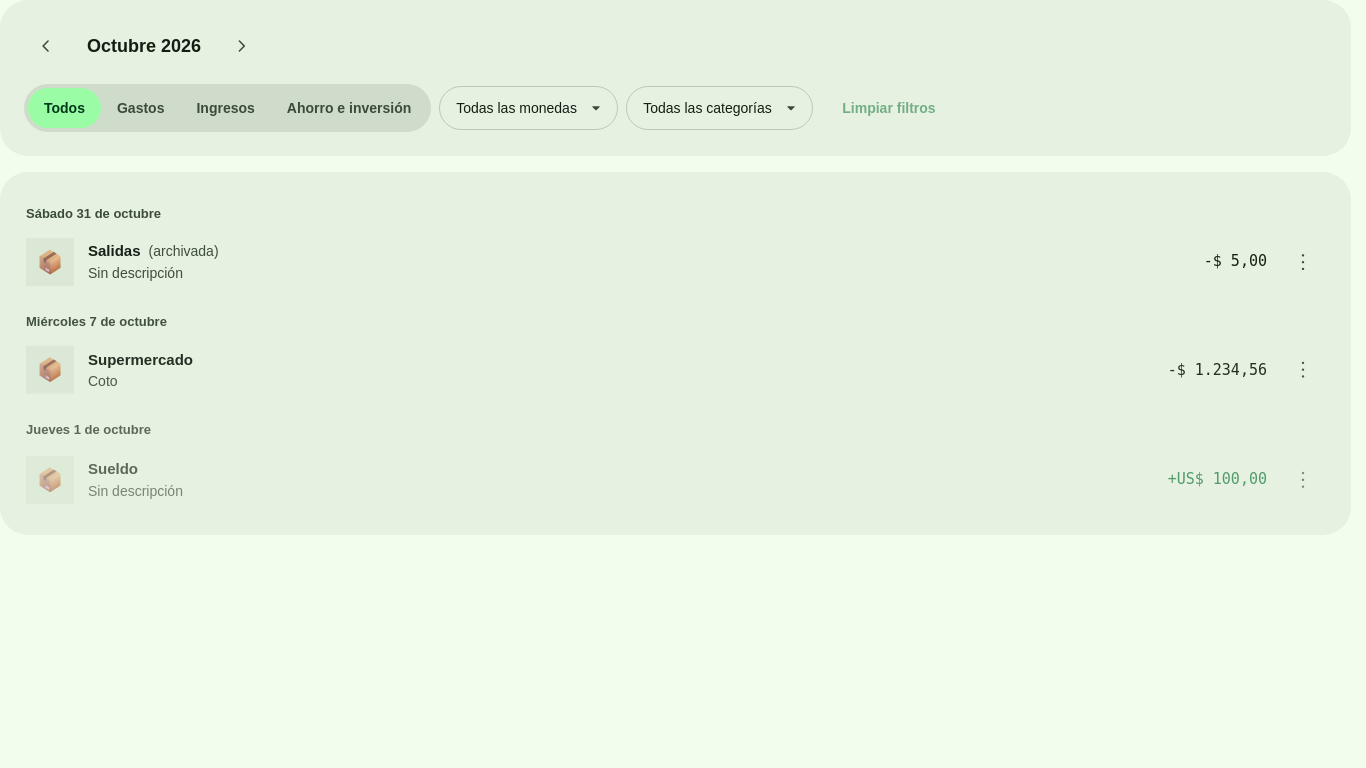
Test: MovementsPage › edit › saves the changes and updates the list
Click the button named "Acciones del movimiento de Supermercado del 07/10/2026": (1303, 370) [1281,348,1325,392]
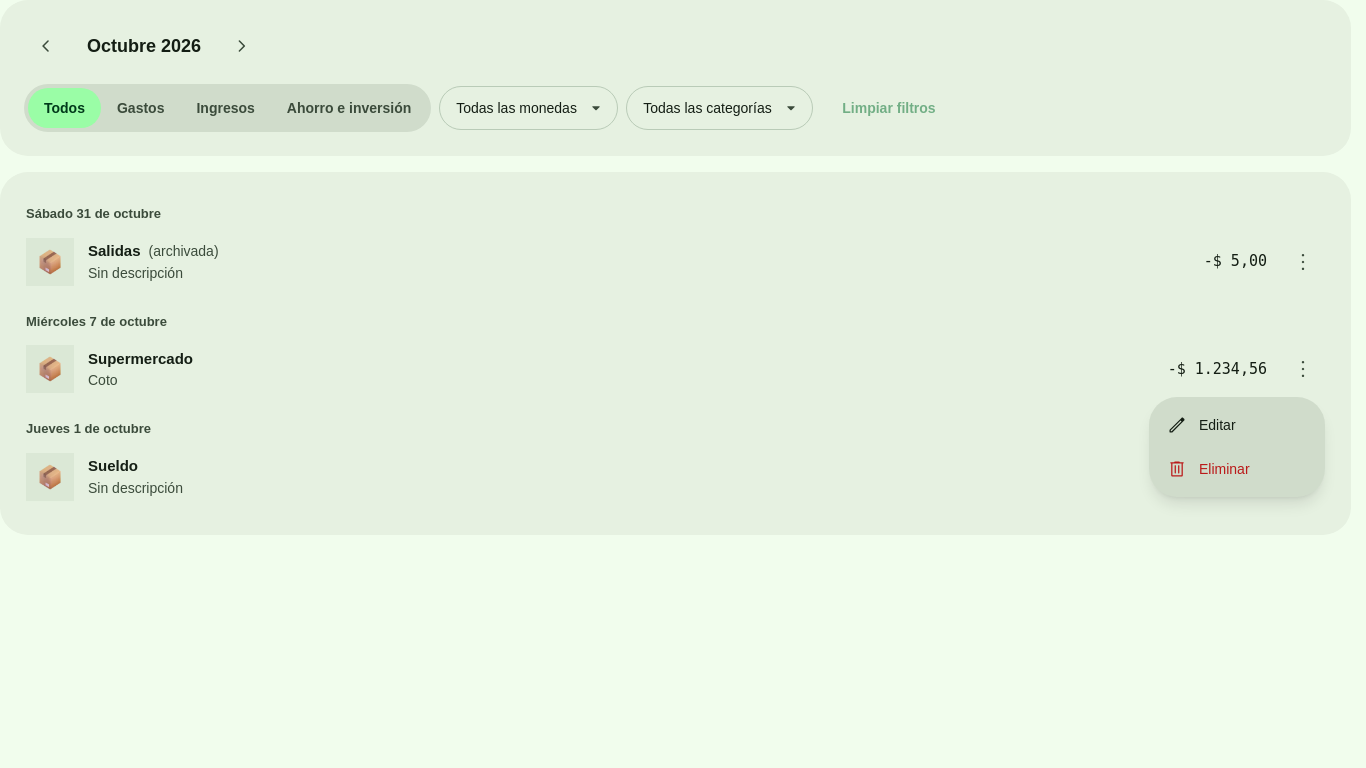
Click the menu item "Editar": (1201, 425) [1167,415,1236,435]
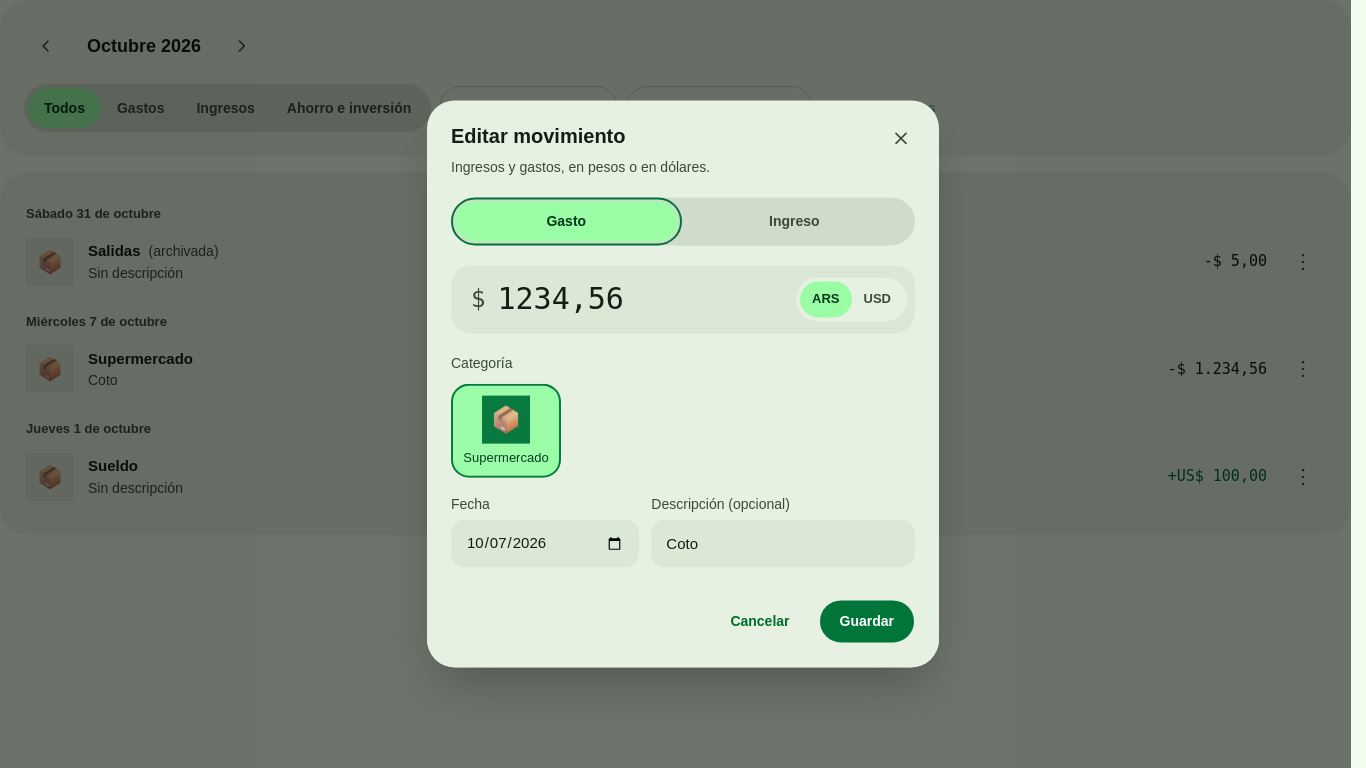
Check: the field named "Monto" is shown
Replace the text in the 1st field with "2.000": (641, 299) [498,273,784,325]
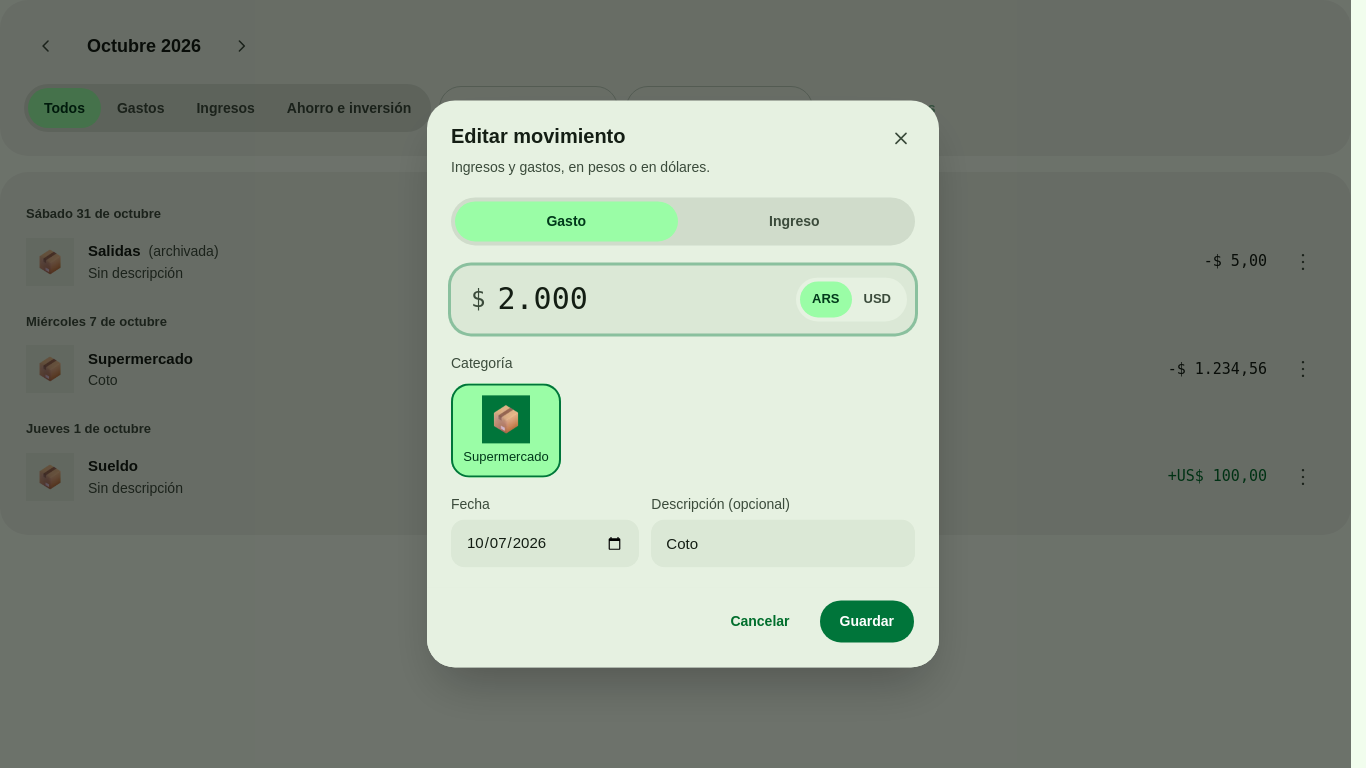
Click the button "Guardar": (867, 622) [818,600,915,644]
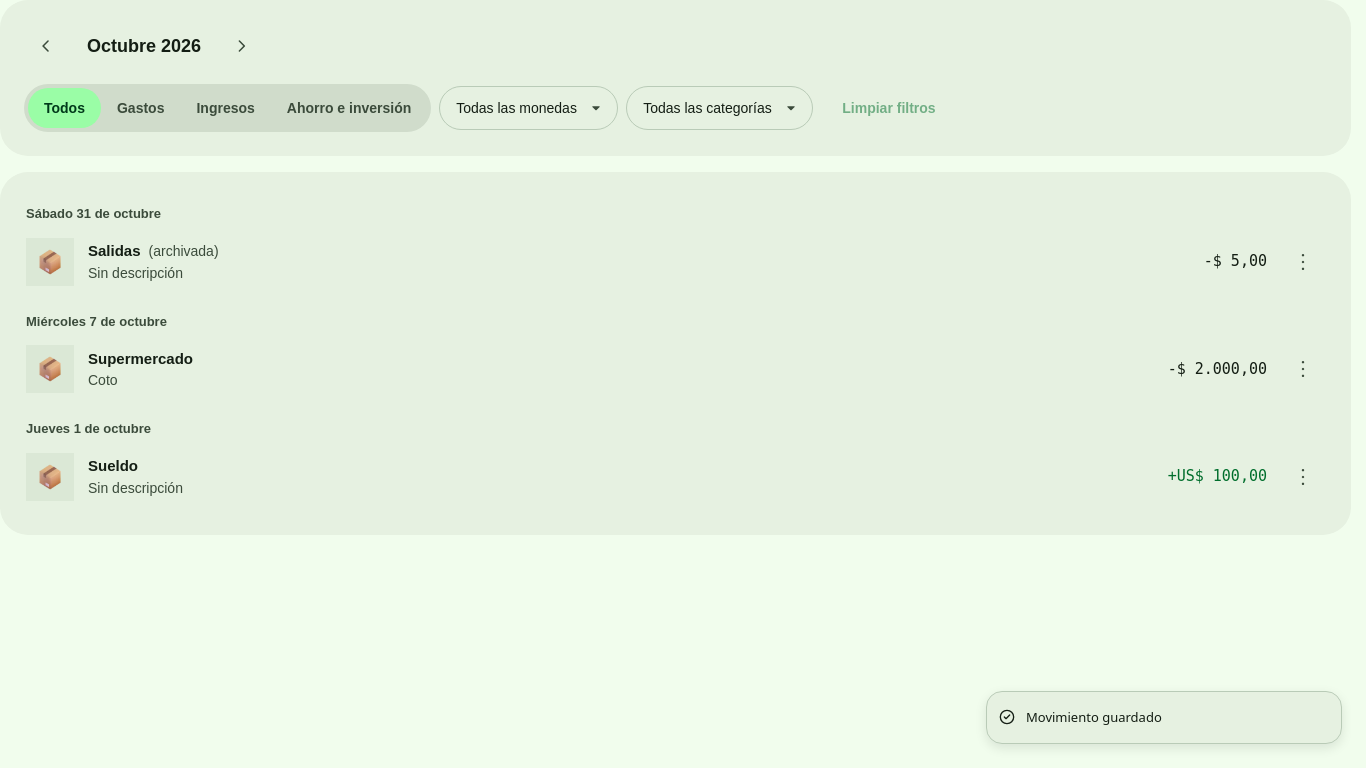
Check: the text "-$ 2.000,00" is shown, box [1168,358,1267,380]
Check: the text "-$ 1.234,56" is gone
